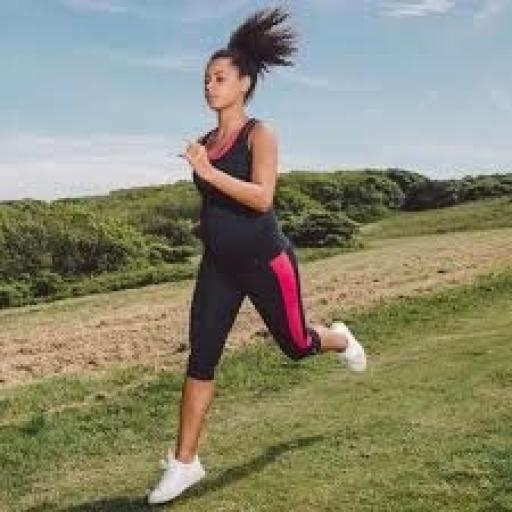running: (141, 4, 371, 510)
